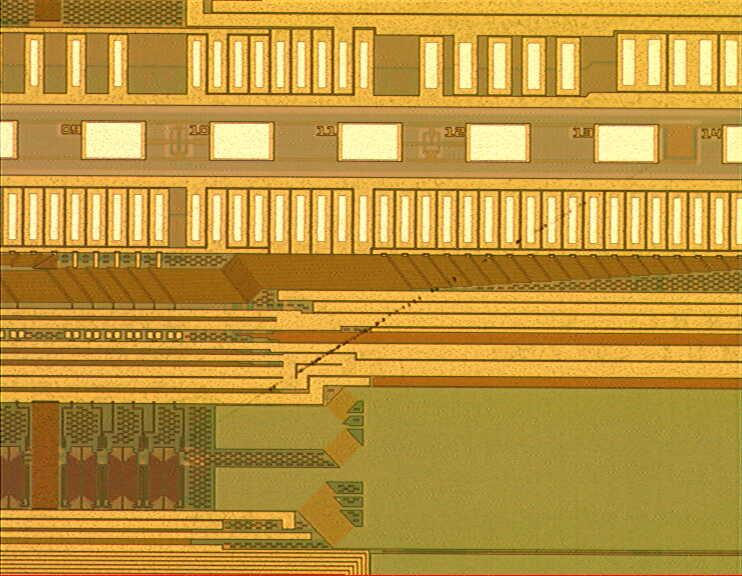SCRATCH: (191, 156, 672, 447)
